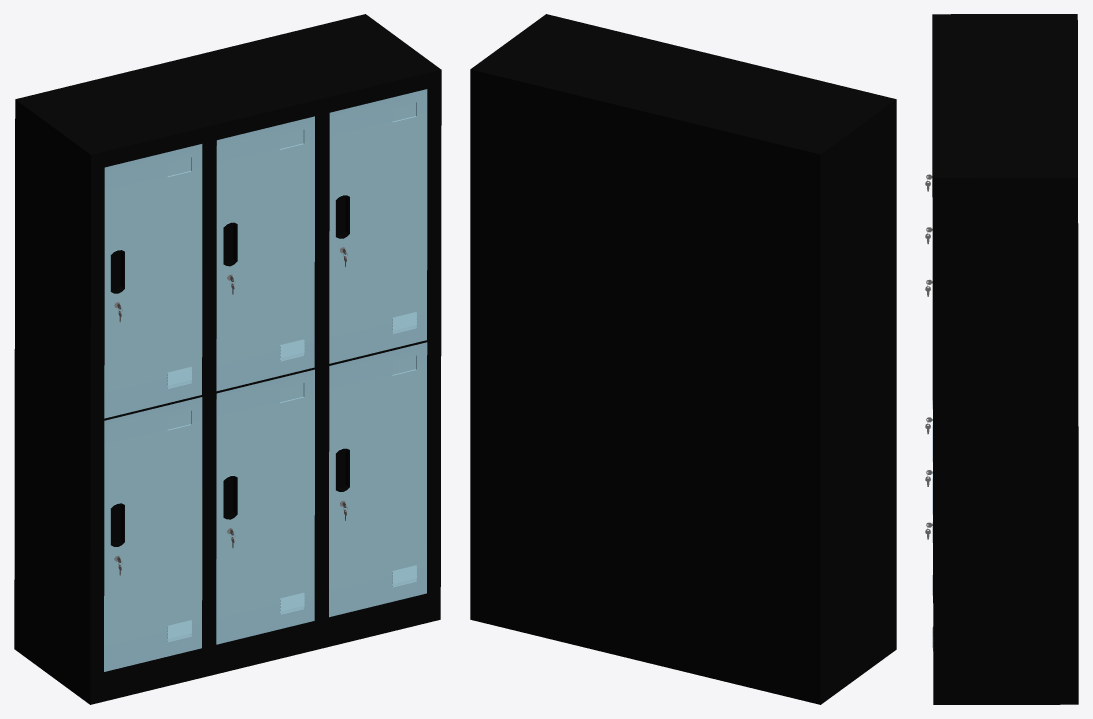
The model's file is Prop_MultiLocker_LightBlue.fbx.
3 views of the same model, side by side, from view 1: azimuth 30°, elevation 25°; view 2: azimuth 150°, elevation 25°; view 3: azimuth 270°, elevation 25° (orthographic). The views are drawn at different scales.
Visible parts, largest first — view 1: Locker; view 2: Locker; view 3: Locker.
Part boxes in pixels (bbox=[...]): Locker: bbox=[14, 14, 441, 704]; Locker: bbox=[470, 14, 896, 704]; Locker: bbox=[925, 14, 1078, 704].
Size of the model in its own units: 200 by 300 by 79.12.
